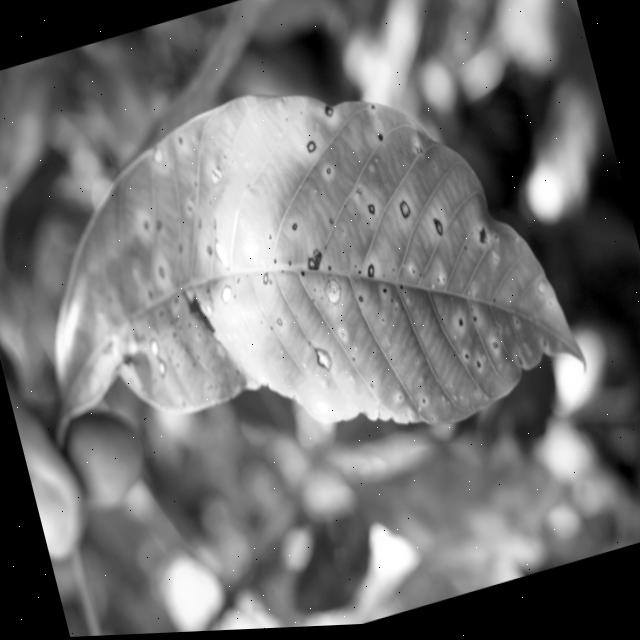Colletotrichum: (322, 279, 344, 309), (398, 203, 411, 223), (432, 220, 444, 240), (306, 258, 318, 274), (365, 266, 376, 283), (306, 142, 316, 157), (260, 274, 270, 287), (368, 206, 376, 218), (276, 319, 282, 328), (291, 225, 297, 232), (358, 298, 363, 305), (326, 170, 330, 177)
